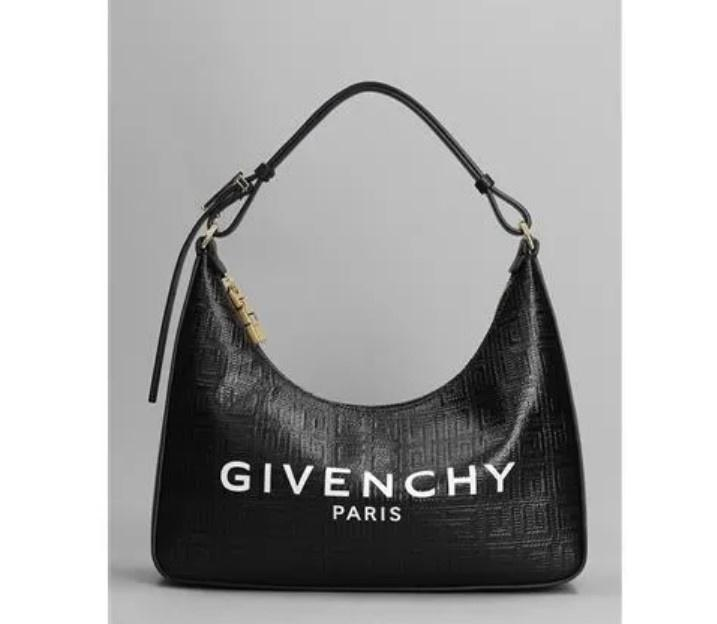GIVENCHY: (207, 441, 522, 513)
